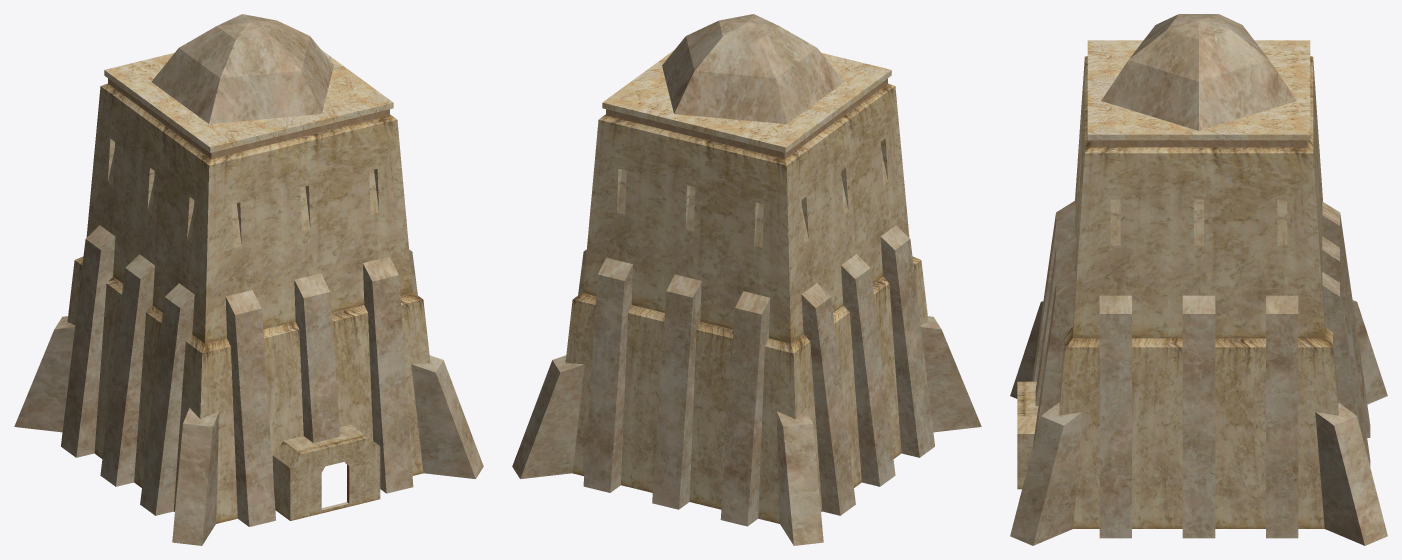
File: thm_tato_imprv_building_s02_r0_mesh_l1.fbx
3 views of the same model, side by side, from view 1: azimuth 30°, elevation 25°; view 2: azimuth 150°, elevation 25°; view 3: azimuth 270°, elevation 25° (orthographic). The views are drawn at different scales.
Parts seen in each view (by area): view 1: mesh_node; view 2: mesh_node; view 3: mesh_node.
Boxes of the visible parts, box(x1,y1,x2,y2) form: mesh_node: box(14, 14, 483, 545); mesh_node: box(512, 14, 981, 545); mesh_node: box(1010, 14, 1387, 545).
Size of the model in its own units: 22.7 by 29.53 by 22.7.
